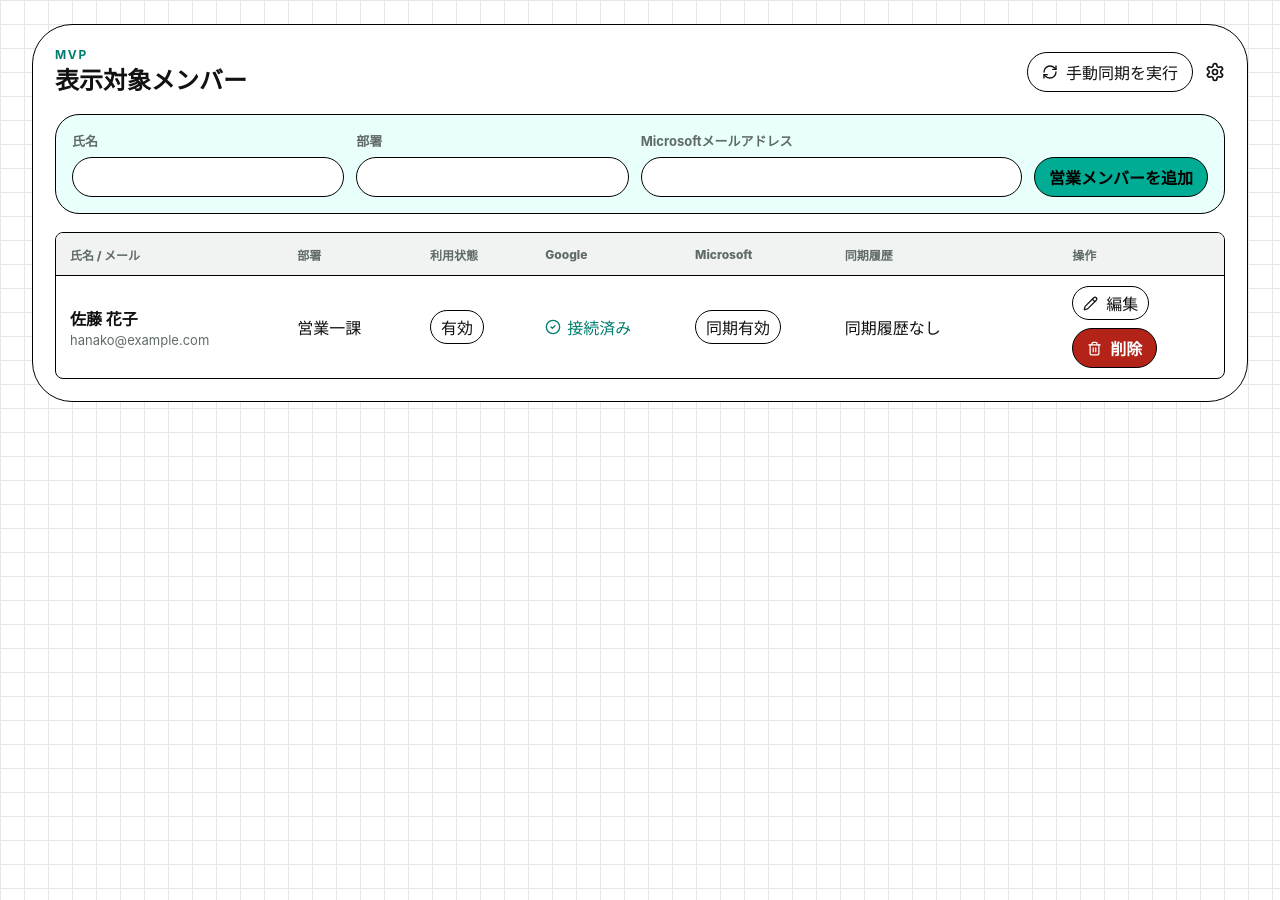
Test case: AdminMembers › 登録済みメンバーの氏名・部署・Microsoftメールを編集する
The width and height of the screenshot is (1280, 900).
Expected: the text "佐藤 花子" is shown, [70,309,138,329]
Click the button with aria-label "佐藤 花子の情報を編集": (1111, 303) [1072,286,1149,320]
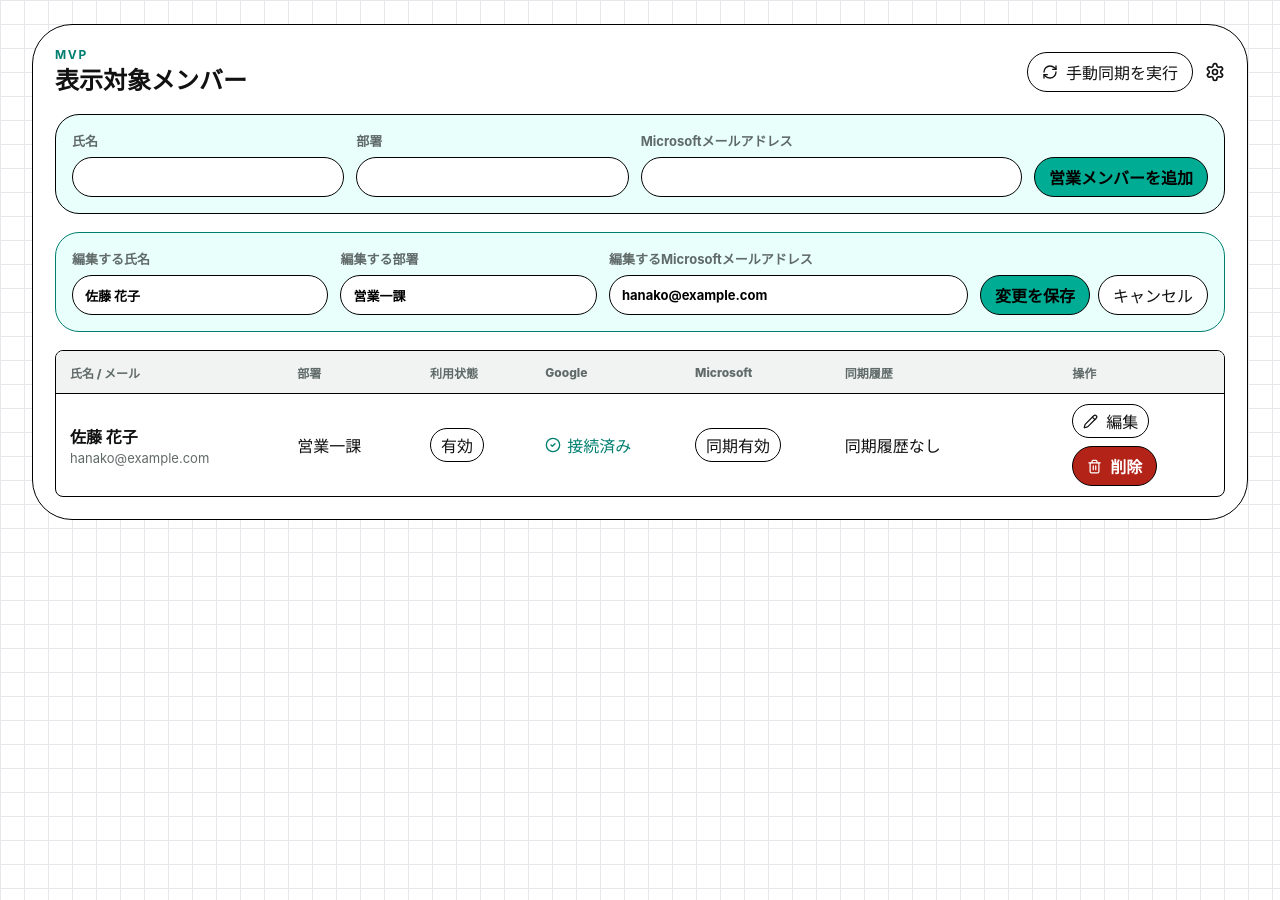
Now the form named "メンバー情報の編集" is shown, box [55,232,1225,332]
Replace the text in the field labelled "編集する氏名" with "佐藤 花子（東京）": (200, 295) [72,275,328,315]
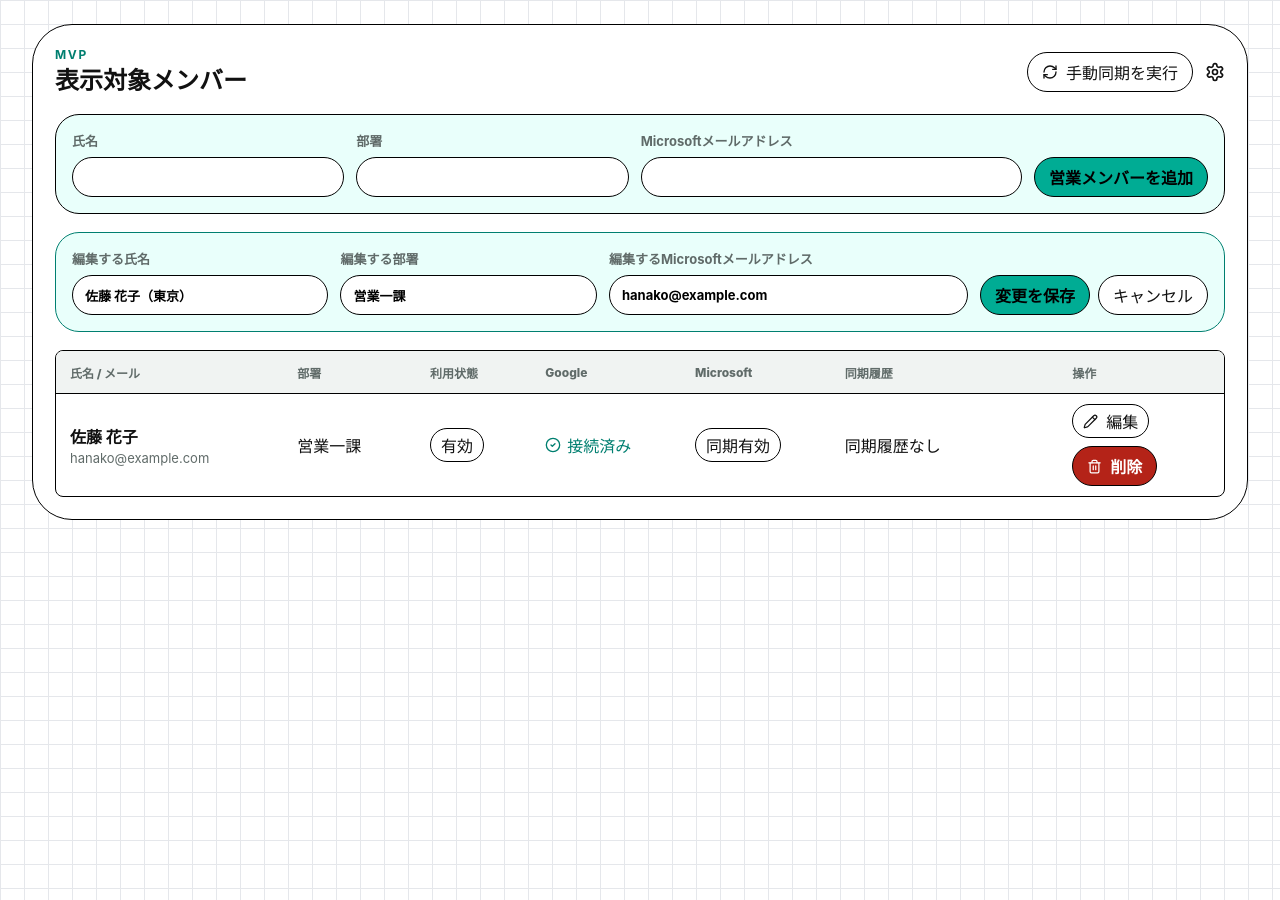
Replace the text in the field labelled "編集する部署" with "法人営業部": (469, 295) [340,275,597,315]
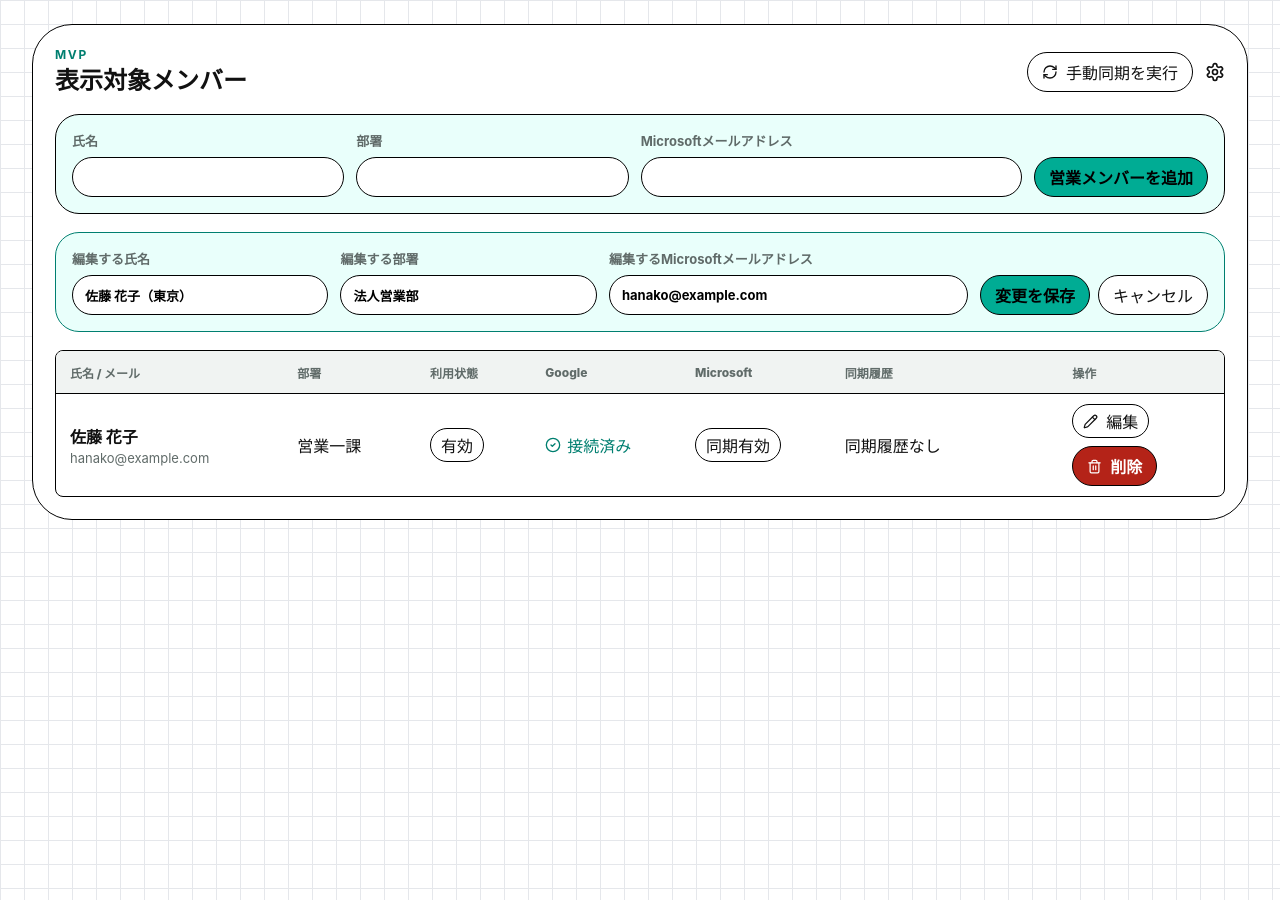
Replace the text in the field labelled "編集するMicrosoftメールアドレス" with "hanako.tokyo@example.com": (788, 295) [609,275,968,315]
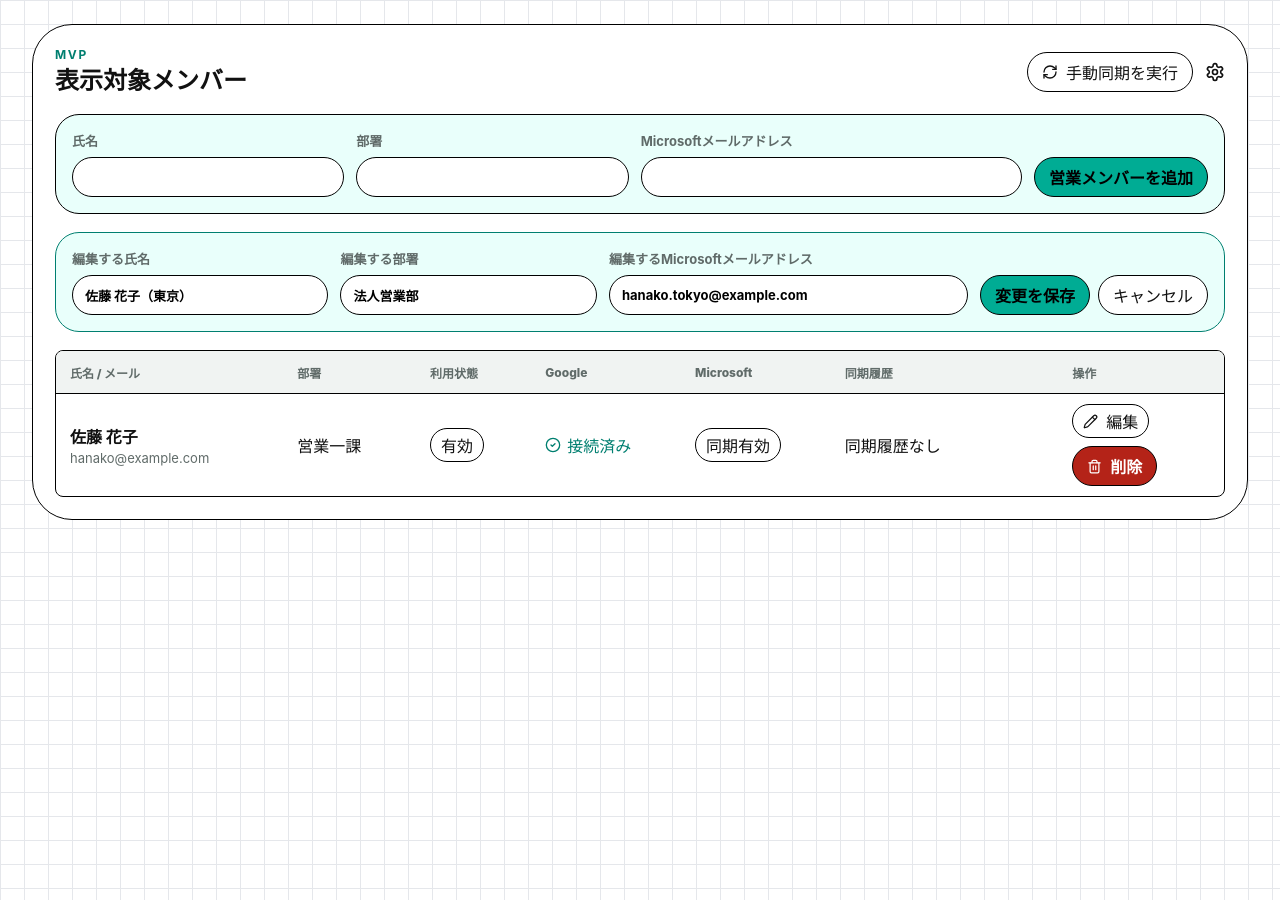
Click the button "変更を保存": (1035, 295) [980,275,1090,315]
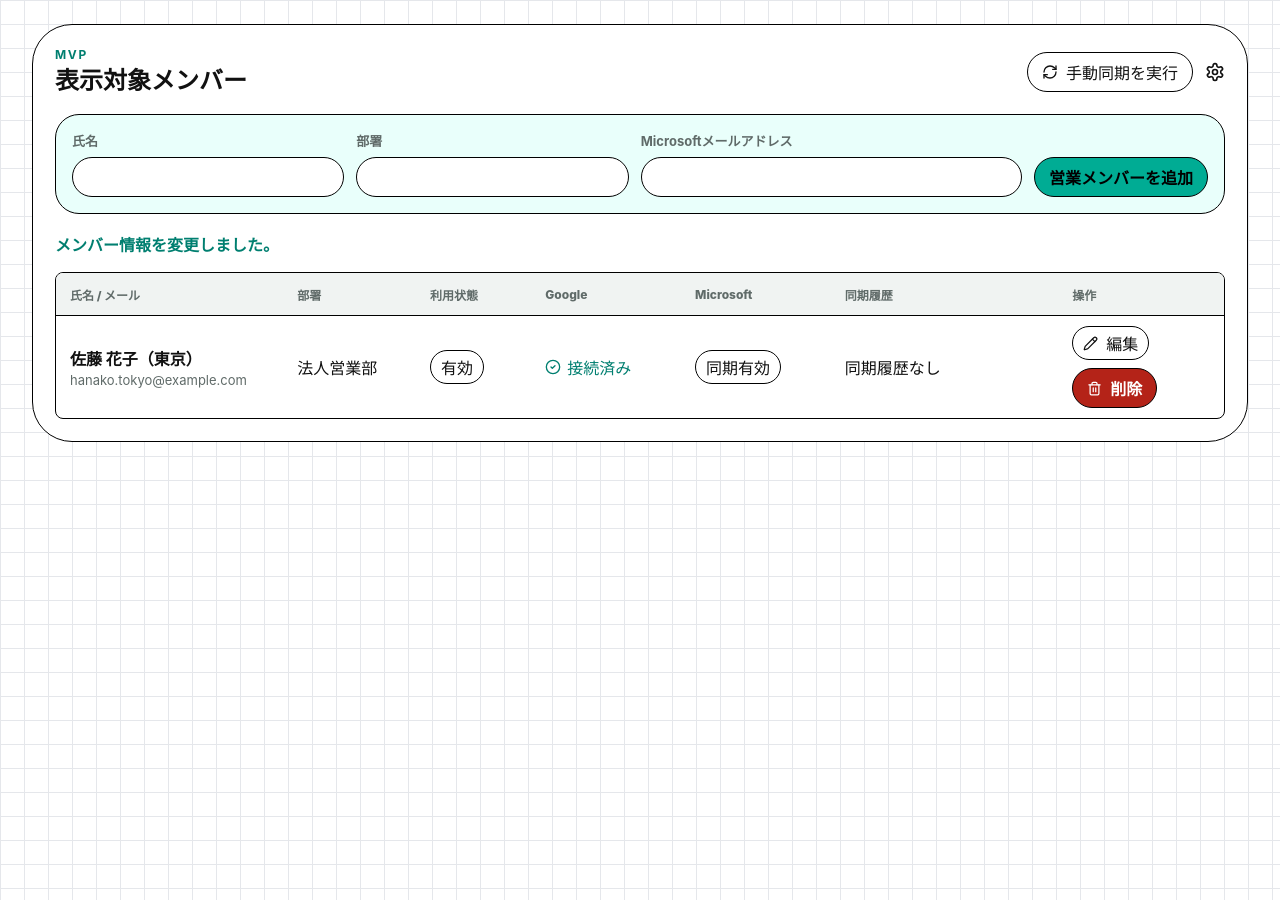
Now the text "メンバー情報を変更しました。" is shown, box [55,235,279,255]
Now the text "佐藤 花子（東京）" is shown, box [70,349,202,369]
Now the text "hanako.tokyo@example.com" is shown, box [70,372,247,388]
